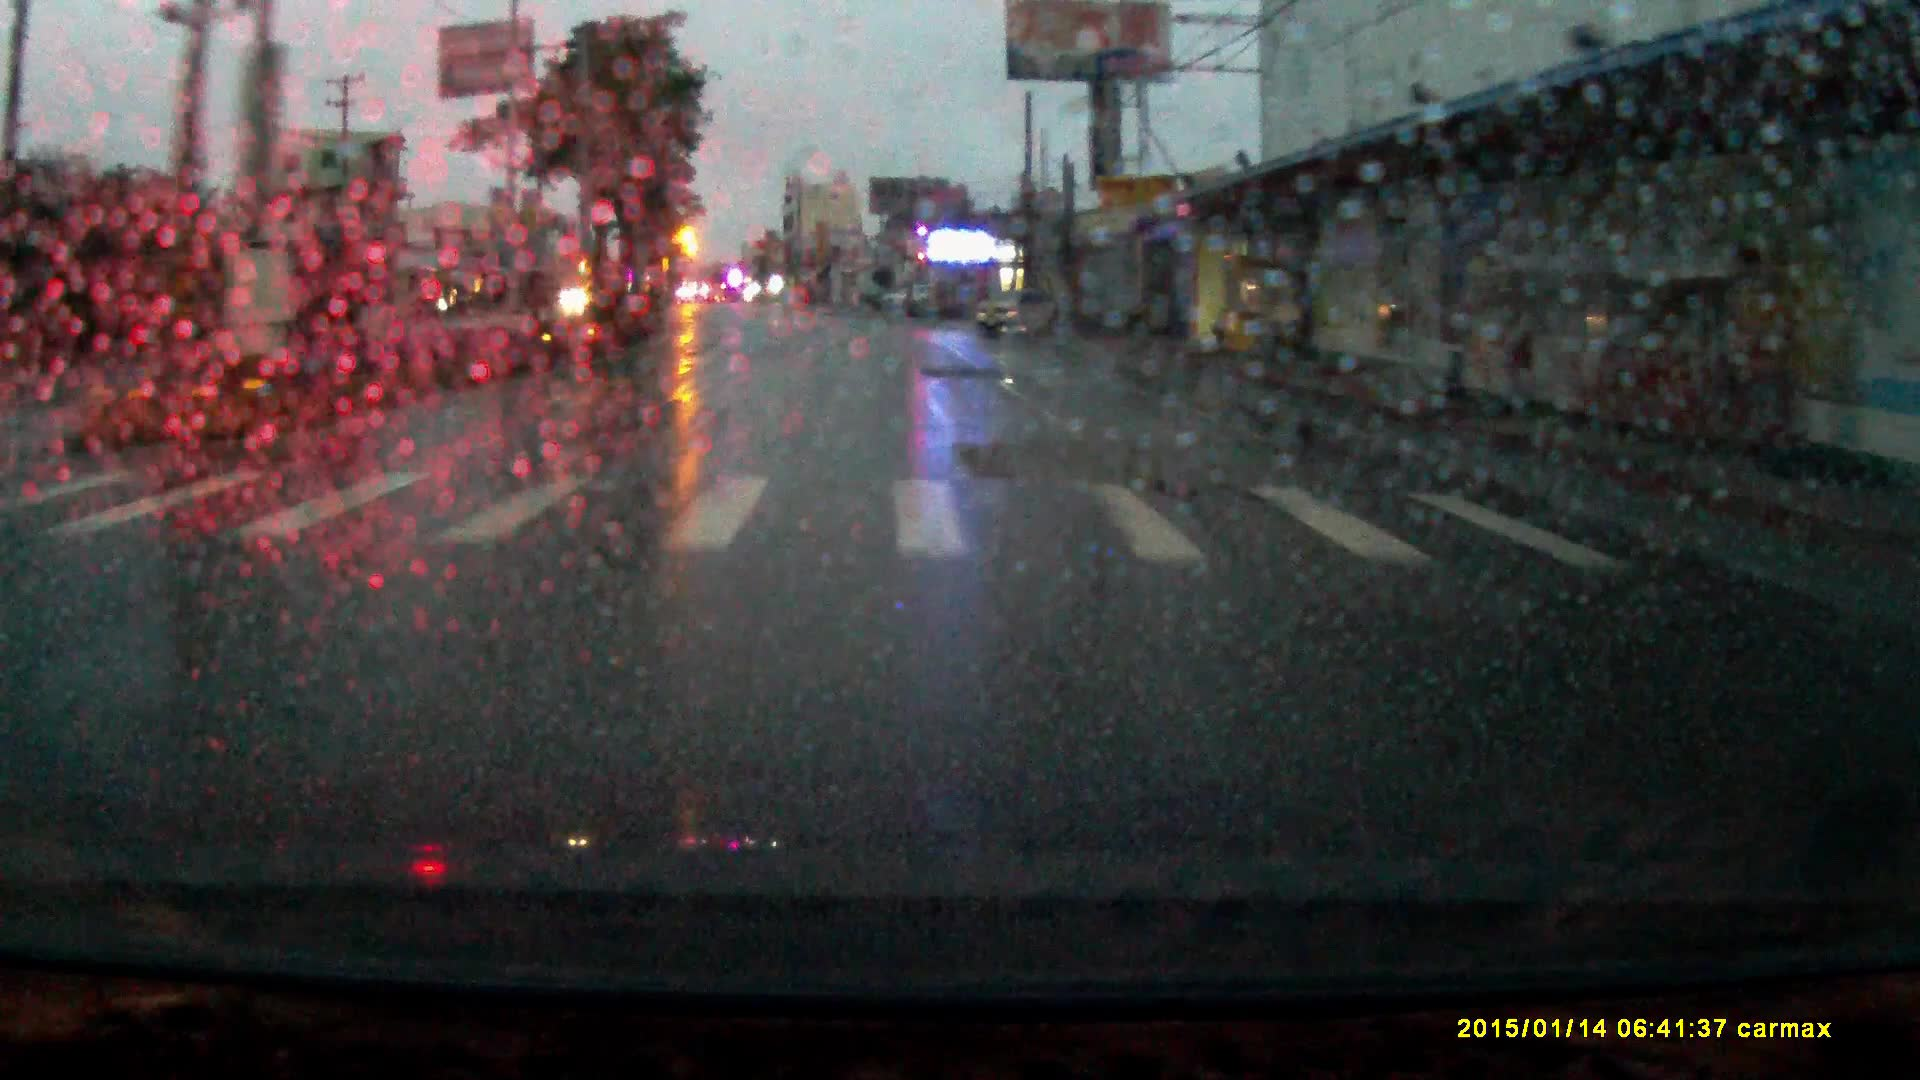vehicle: (973, 289, 1063, 340), (880, 282, 931, 310)
